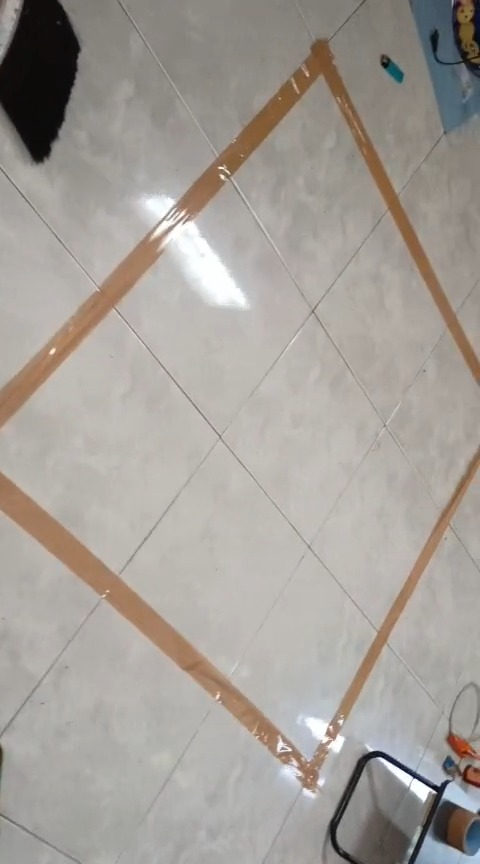floor marking: (0, 40, 479, 426), (0, 449, 479, 789)
